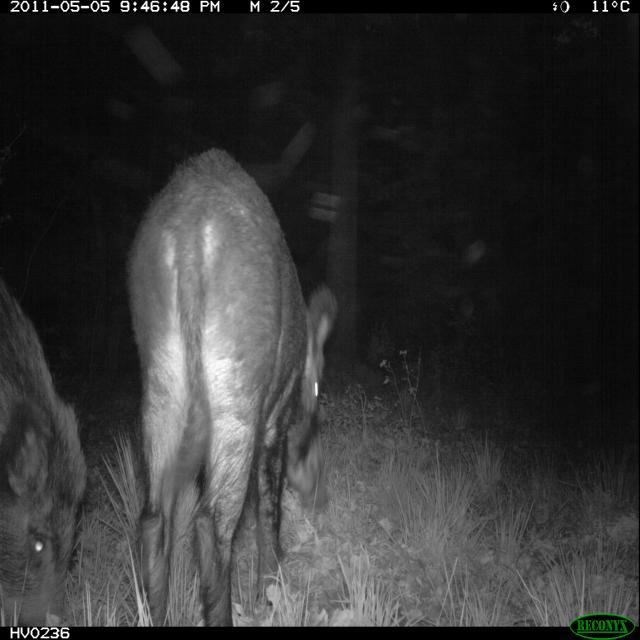boar: (119, 122, 348, 628), (0, 236, 93, 578)
